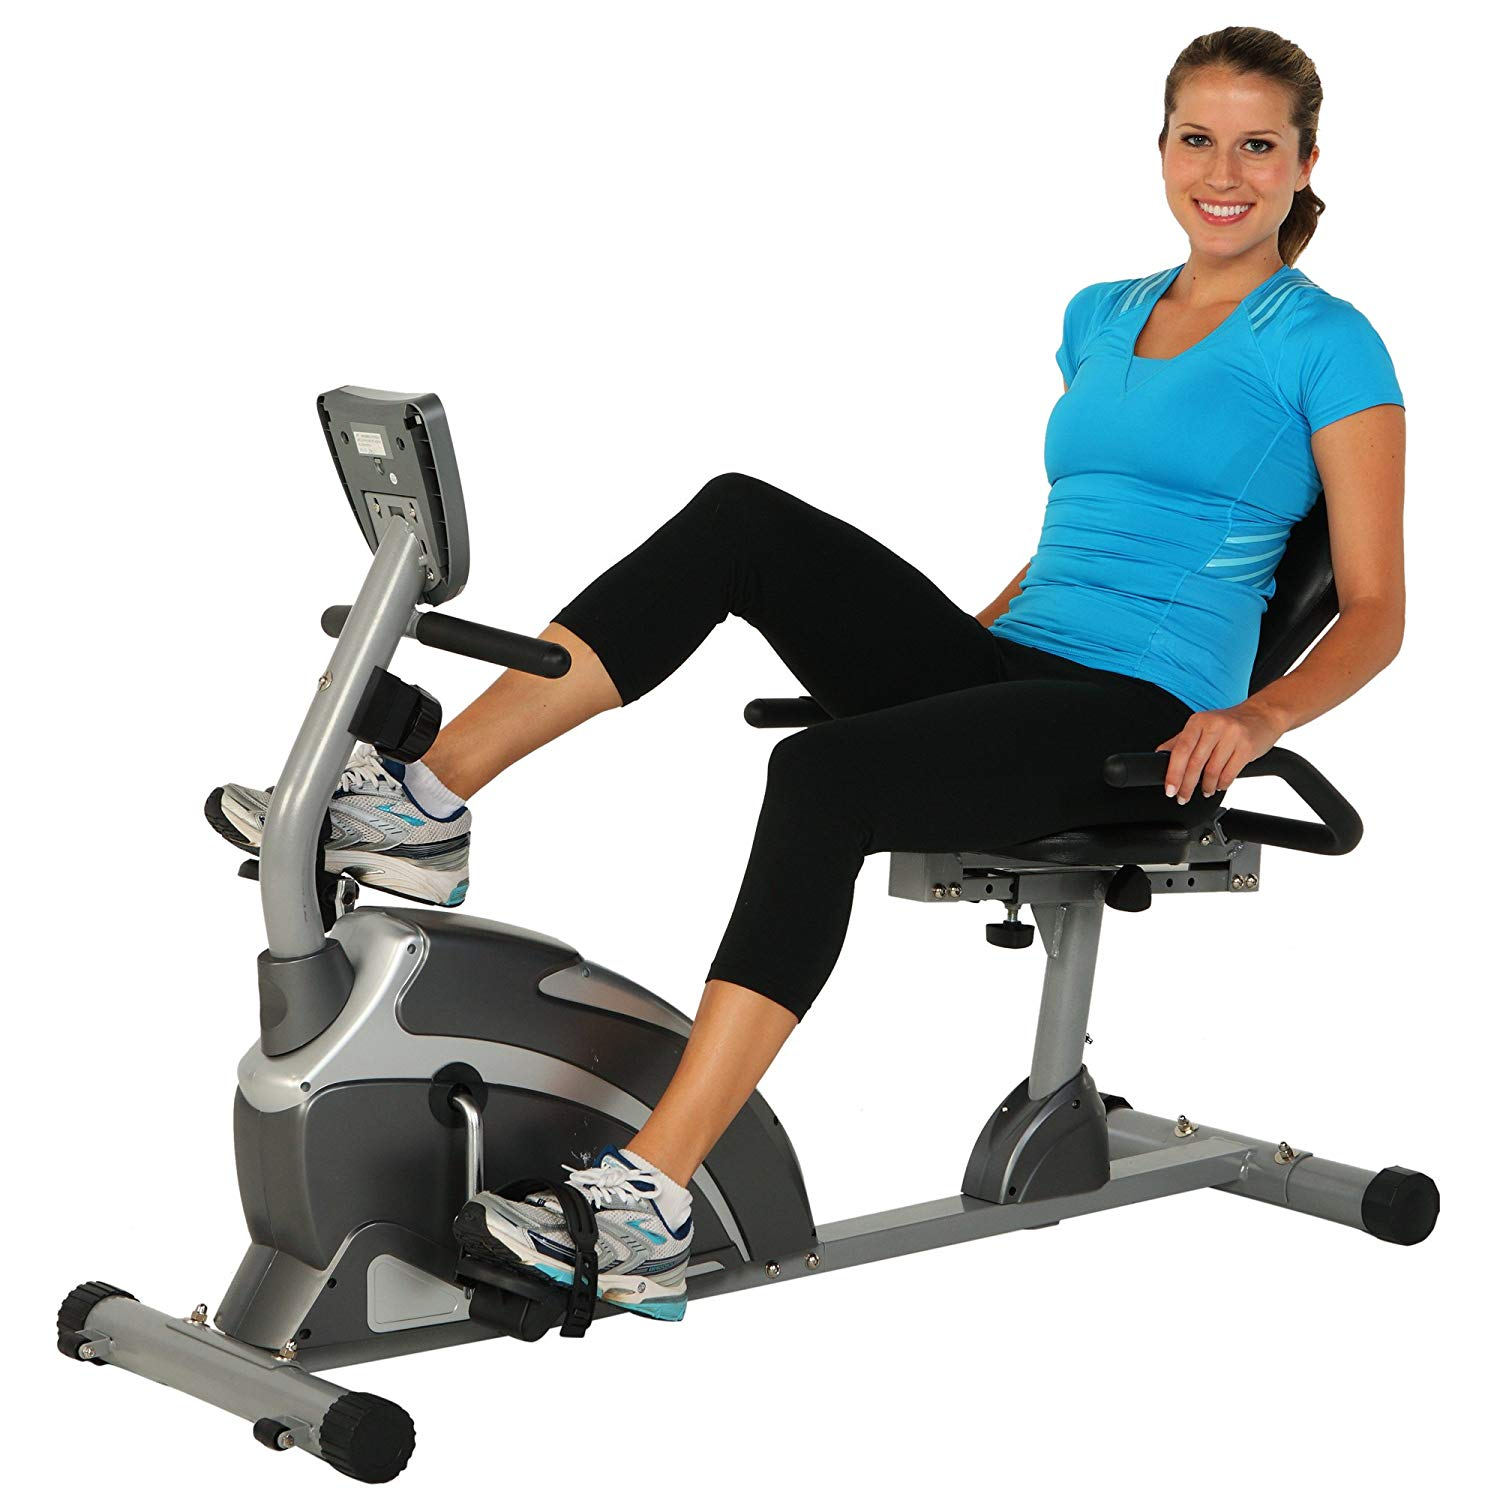gym_bike: (48, 391, 1446, 1474)
